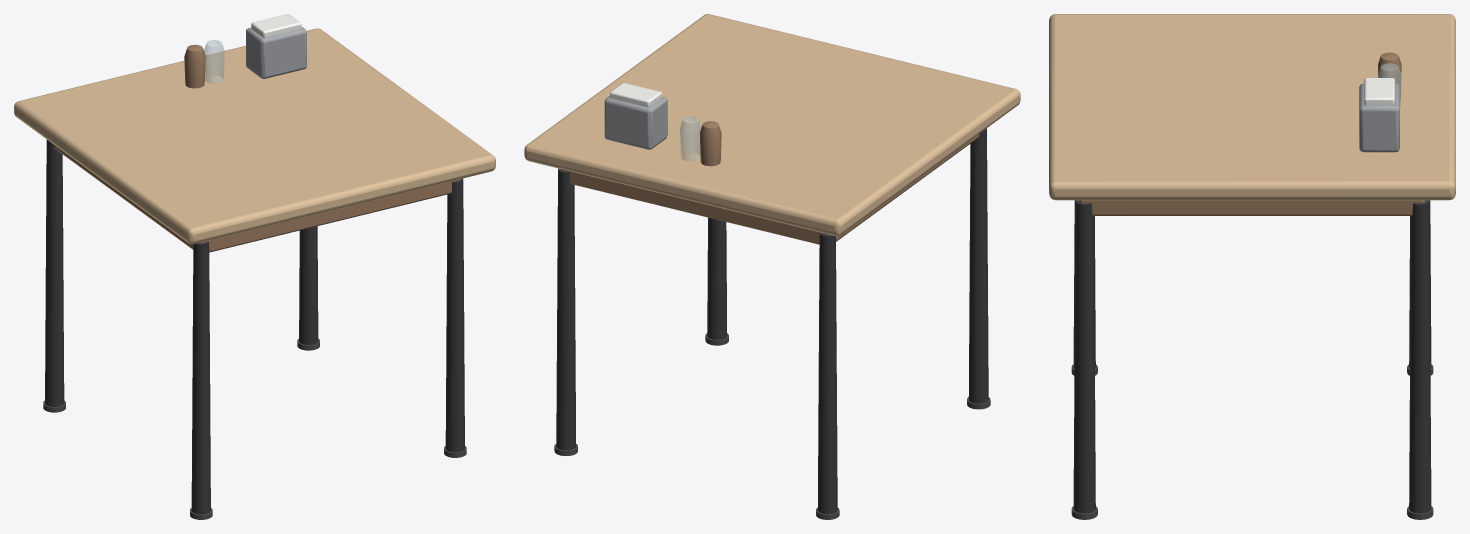
The model's file is Table.fbx.
3 renders of one model, left to right at view 1: azimuth 30°, elevation 25°; view 2: azimuth 150°, elevation 25°; view 3: azimuth 270°, elevation 25°, orthographic. The views are drawn at different scales.
Visible parts, largest first — view 1: Table; view 2: Table; view 3: Table.
Part boxes in pixels (x1,y1,x2,y2): Table: (14, 14, 495, 519); Table: (524, 14, 1020, 519); Table: (1049, 14, 1455, 519).
Size of the model in its own units: 0.8 by 0.865 by 0.8.
